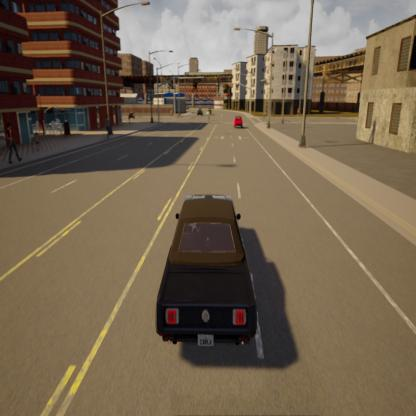Cars: (155, 191, 258, 355), (234, 112, 245, 131)
Pedestrian: (5, 120, 24, 169), (32, 128, 42, 157), (104, 112, 113, 141)
